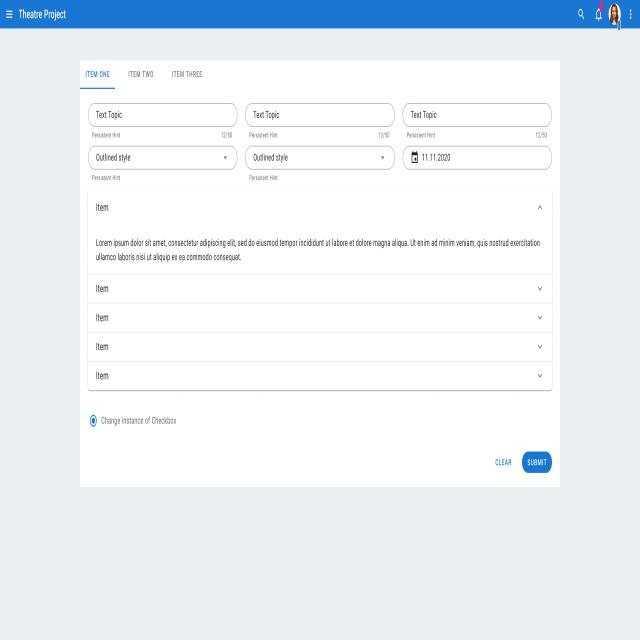QLabel: (17, 7, 69, 20), (84, 68, 112, 80), (126, 68, 154, 80), (170, 70, 202, 80), (494, 458, 512, 468), (526, 458, 548, 466)
VAppBar: (0, 0, 640, 31)
VBadge: (608, 2, 620, 30), (596, 0, 604, 22)
VBtn: (488, 451, 519, 474), (523, 451, 553, 474)
VCard: (80, 59, 561, 490)
VCombobox: (245, 145, 395, 184), (88, 145, 238, 182)
VExpansionPanels: (88, 188, 552, 391)
VIcon: (5, 10, 14, 19), (578, 8, 584, 20), (629, 10, 632, 20)
VInlineDatepicker: (402, 145, 552, 172)
VRadio: (88, 412, 178, 430)
VTab: (122, 65, 164, 90), (168, 66, 206, 90), (81, 66, 117, 91)
VTabs: (80, 63, 559, 94)
VTextField: (245, 102, 395, 141), (88, 102, 238, 140), (403, 102, 552, 139)
